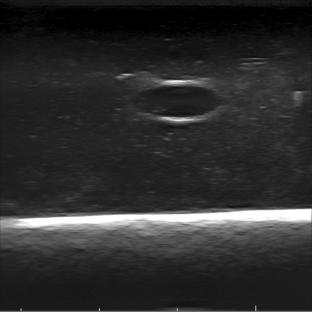vessel: (132, 78, 223, 123)
